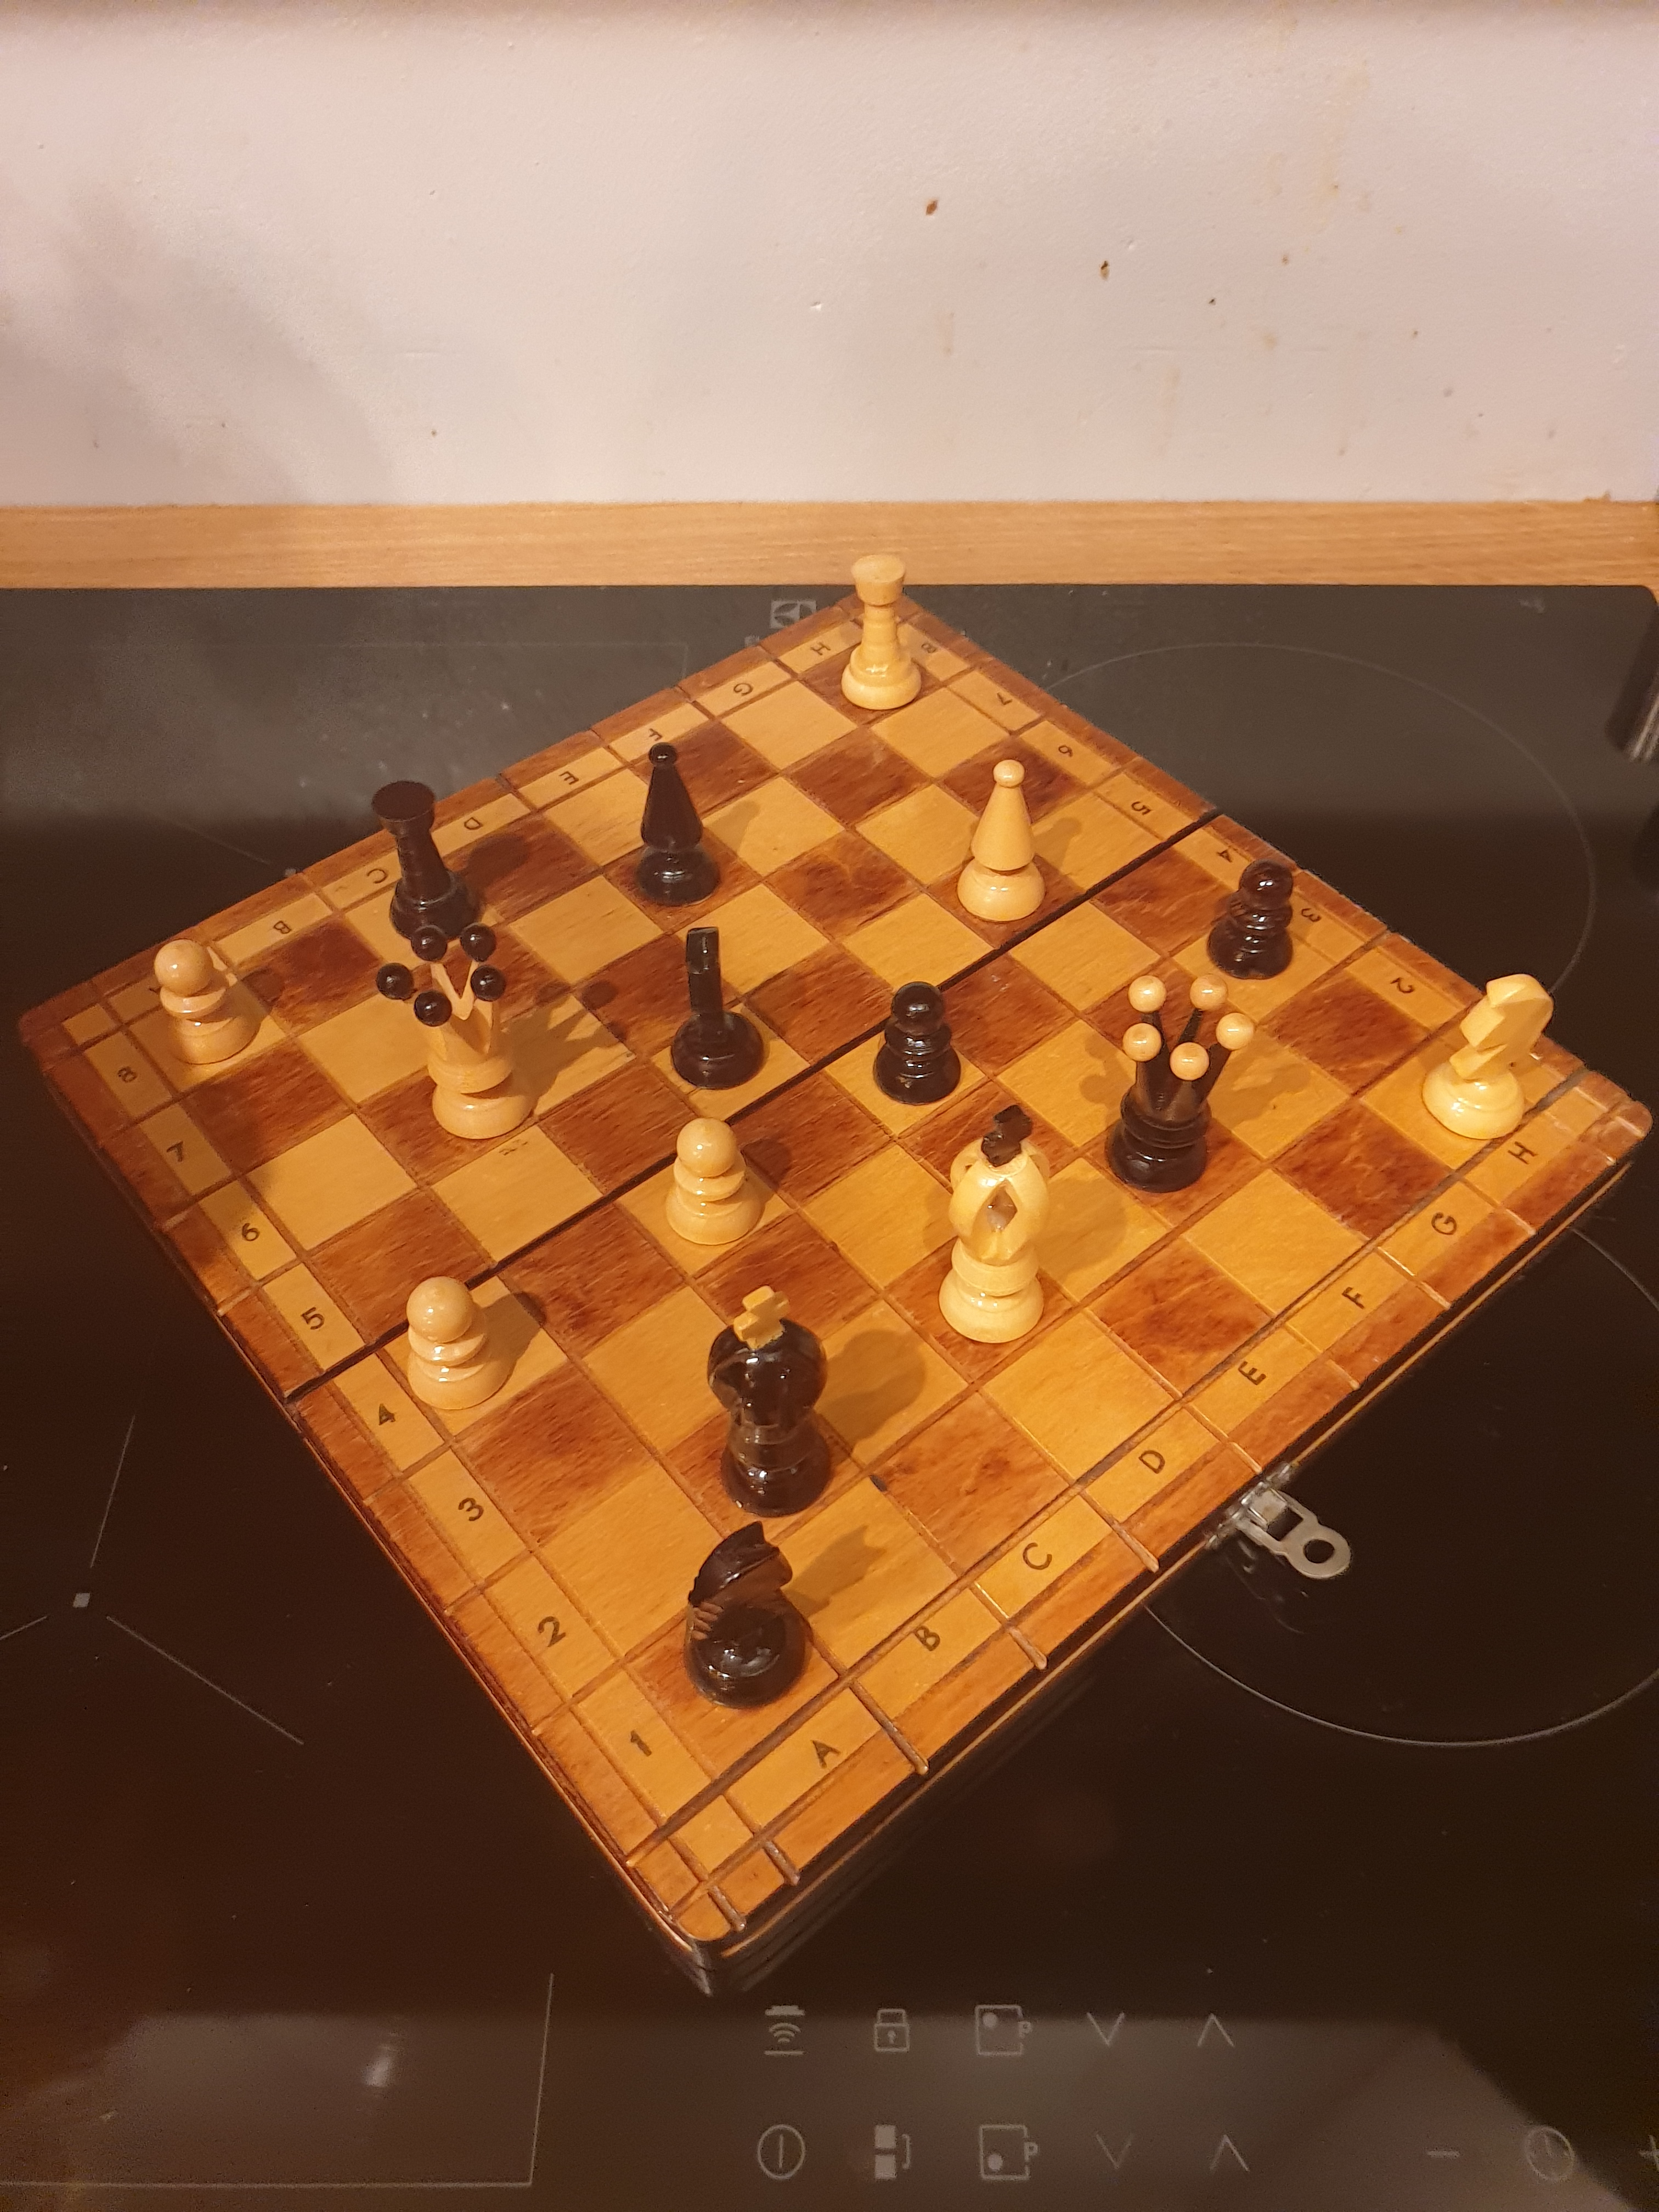bbishop: (627, 737, 730, 918)
bking: (697, 1275, 864, 1547)
bknight: (681, 1512, 816, 1719), (653, 921, 788, 1096)
bpawn: (1201, 846, 1309, 1001), (866, 963, 967, 1120)
bqueen: (1101, 961, 1258, 1202)
brook: (361, 765, 493, 956)
wbishop: (946, 733, 1060, 942)
wking: (931, 1092, 1065, 1371)
wknight: (1415, 954, 1570, 1155)
wpawn: (138, 923, 272, 1094), (390, 1261, 525, 1421), (645, 1103, 775, 1261)
wqueen: (368, 914, 558, 1148)
wrook: (835, 549, 924, 732)
